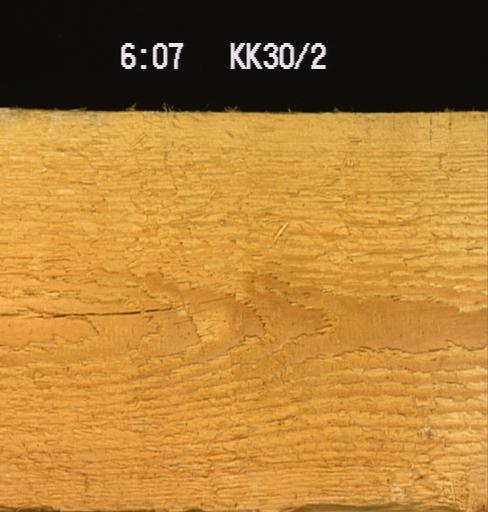split: (0, 303, 174, 315)
wave: (284, 501, 459, 511), (0, 503, 63, 510)
